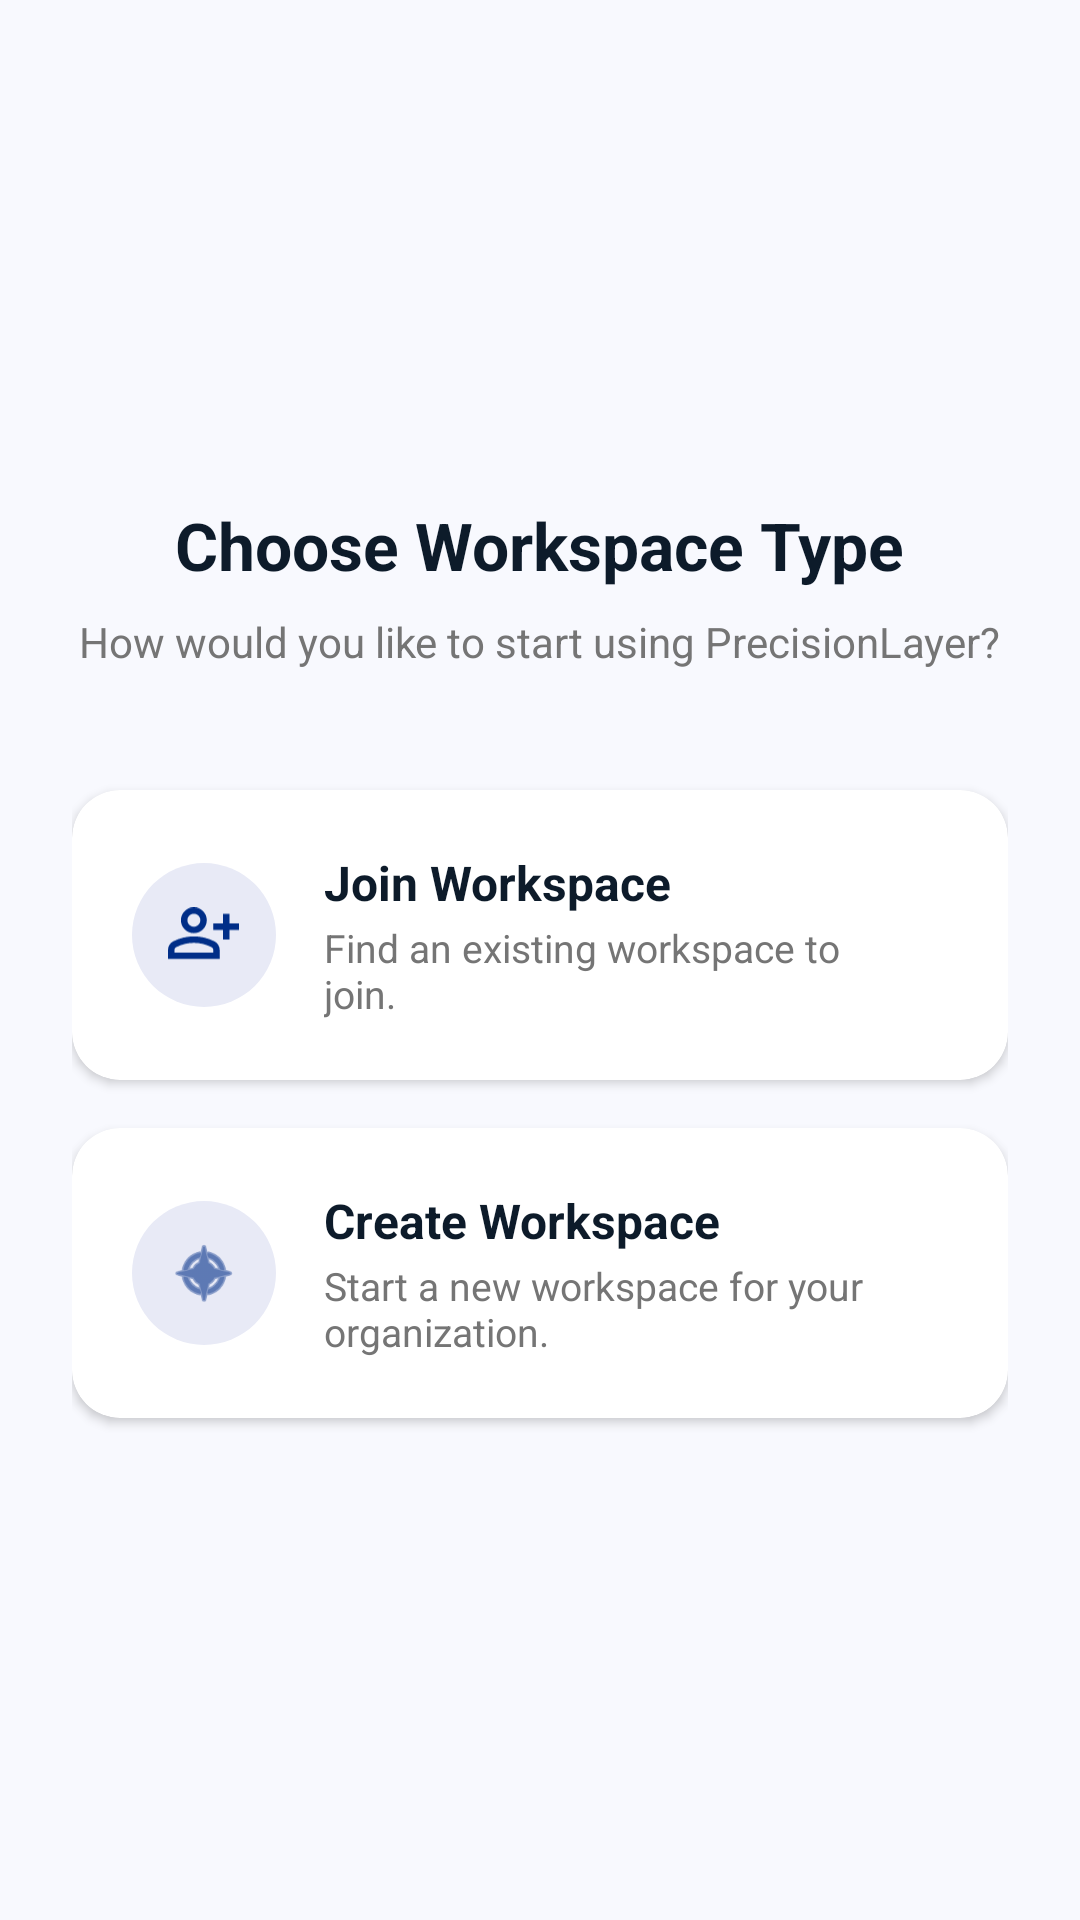

Named icons in this screenshot (1080px×1920px) and their centers, point (x, y):
compass: point (204, 1273)
person plus: point (204, 935)
